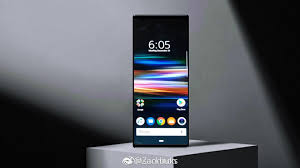sony: (130, 12, 191, 146)
